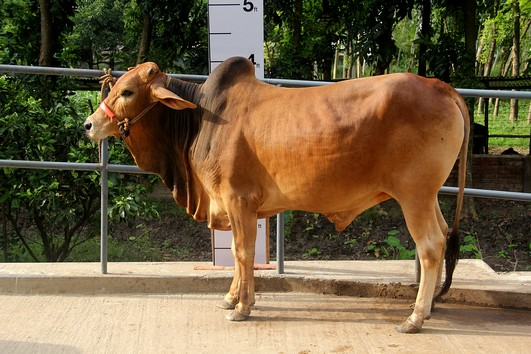cow: (74, 52, 478, 335)
